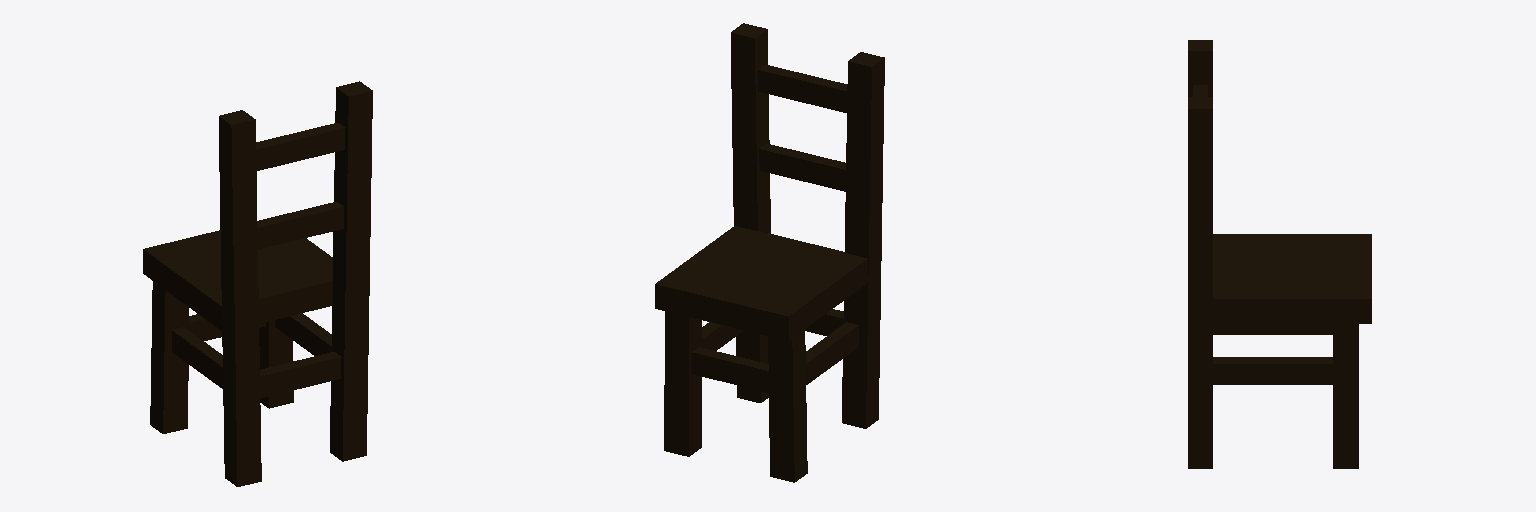
File: Chair_02.obj
3 renders of one model, left to right at view 1: azimuth 30°, elevation 25°; view 2: azimuth 150°, elevation 25°; view 3: azimuth 270°, elevation 25°, orthographic.
Parts seen in each view (by area): view 1: Chair_02_Cube.001; view 2: Chair_02_Cube.001; view 3: Chair_02_Cube.001.
Part boxes in pixels (bbox=[...]): Chair_02_Cube.001: bbox=[143, 81, 372, 486]; Chair_02_Cube.001: bbox=[655, 23, 884, 482]; Chair_02_Cube.001: bbox=[1188, 40, 1371, 468].
Bounding box in the file's own units: 0.7223 × 1.77 × 0.8169.